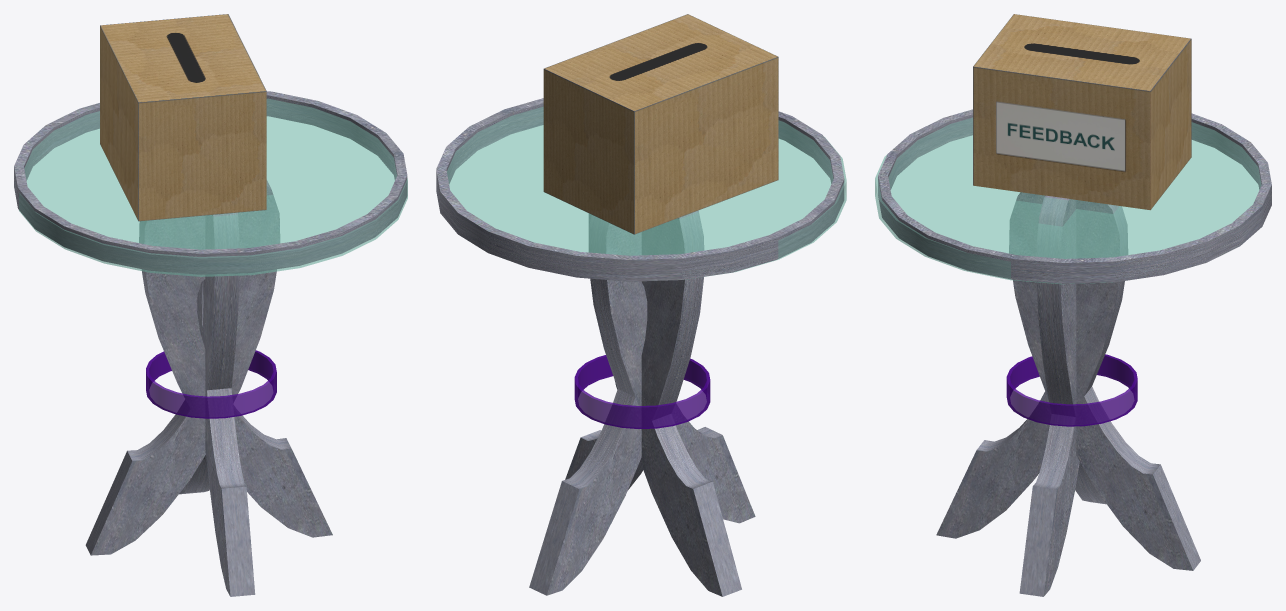
Rendered from Suggestion Box with Course Feedback Survey_095-123-023__1a249b58-3786-4525-b38f-4c25dcbc810d.dae.
3 views of the same model, side by side, from view 1: azimuth 30°, elevation 25°; view 2: azimuth 150°, elevation 25°; view 3: azimuth 270°, elevation 25° (orthographic). The views are drawn at different scales.
Parts seen in each view (by area): view 1: Primitive (×6), HighTopGlassTable, Suggestion Box with Course Feedback Survey; view 2: Primitive (×6), Suggestion Box with Course Feedback Survey, HighTopGlassTable; view 3: Primitive (×6), Suggestion Box with Course Feedback Survey, HighTopGlassTable.
Part boxes in pixels (x1=…): Primitive (×6): x1=14, y1=91, x2=407, y2=596; HighTopGlassTable: x1=19, y1=99, x2=407, y2=276; Suggestion Box with Course Feedback Survey: x1=100, y1=14, x2=266, y2=221; Primitive (×6): x1=436, y1=98, x2=844, y2=596; Suggestion Box with Course Feedback Survey: x1=543, y1=14, x2=778, y2=234; HighTopGlassTable: x1=447, y1=107, x2=846, y2=279; Primitive (×6): x1=878, y1=109, x2=1271, y2=596; Suggestion Box with Course Feedback Survey: x1=973, y1=14, x2=1191, y2=210; HighTopGlassTable: x1=875, y1=118, x2=1261, y2=284.
Bounding box in the file's own units: 1.5 × 1.51 × 2.03.
